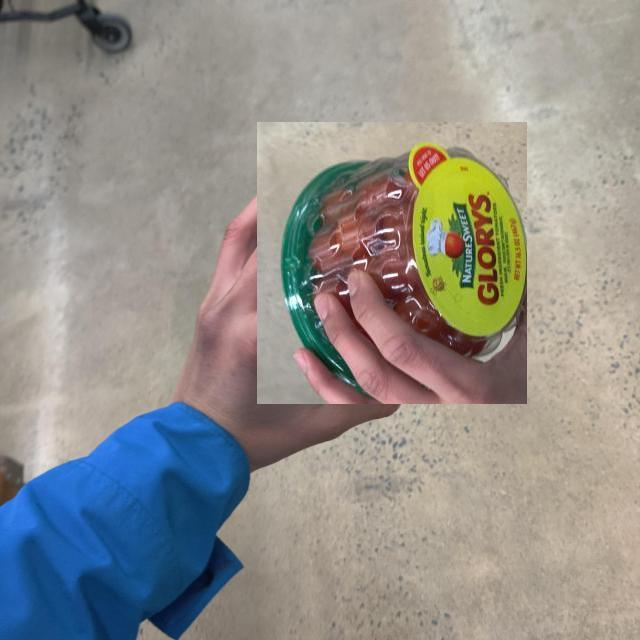Tomatoes: (257, 122, 527, 404)
